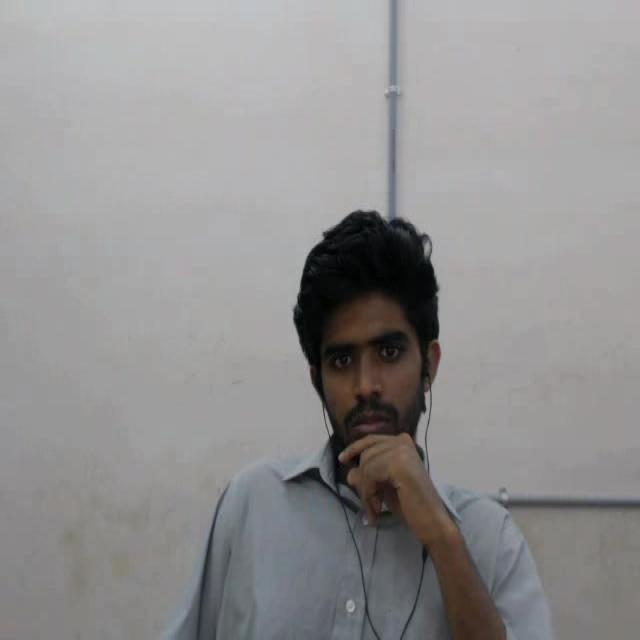Bored: (264, 202, 490, 492)
